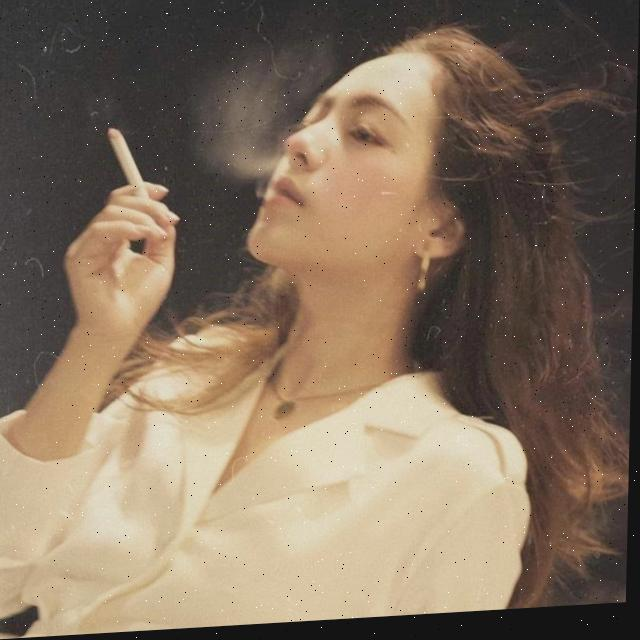cigarette: (106, 127, 152, 202)
